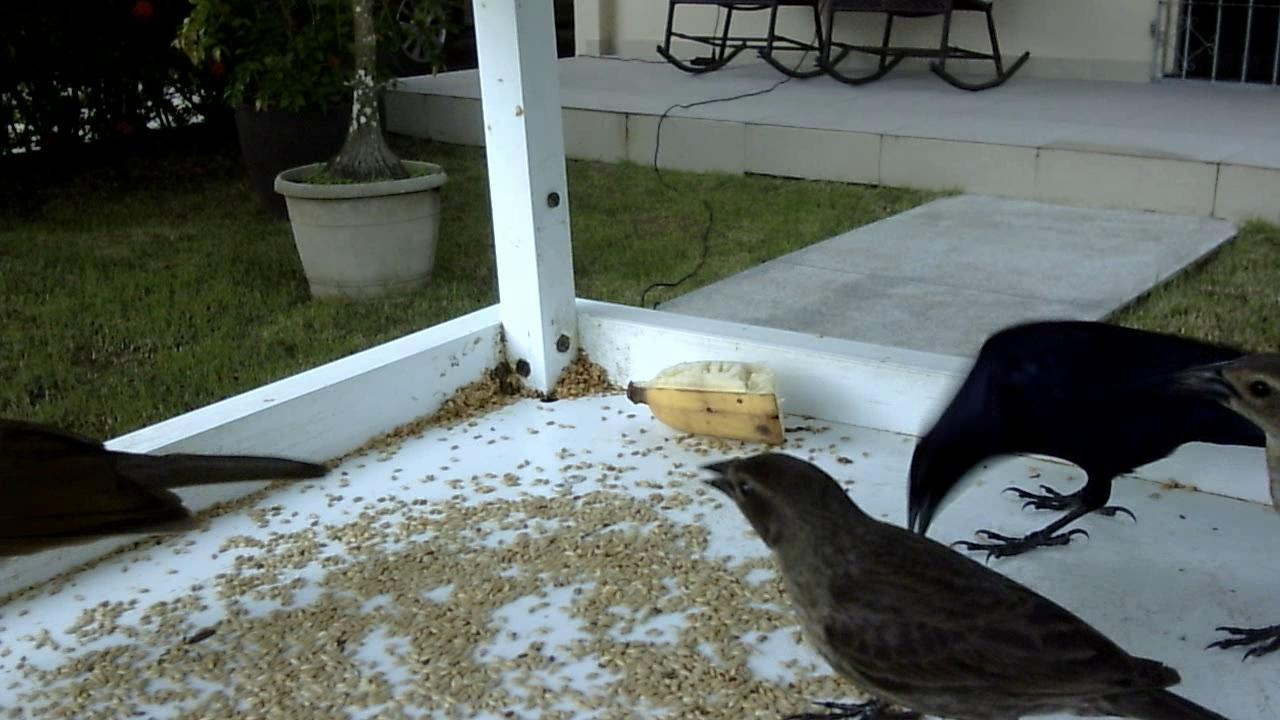chupim: (680, 442, 1240, 718), (895, 311, 1275, 582)
